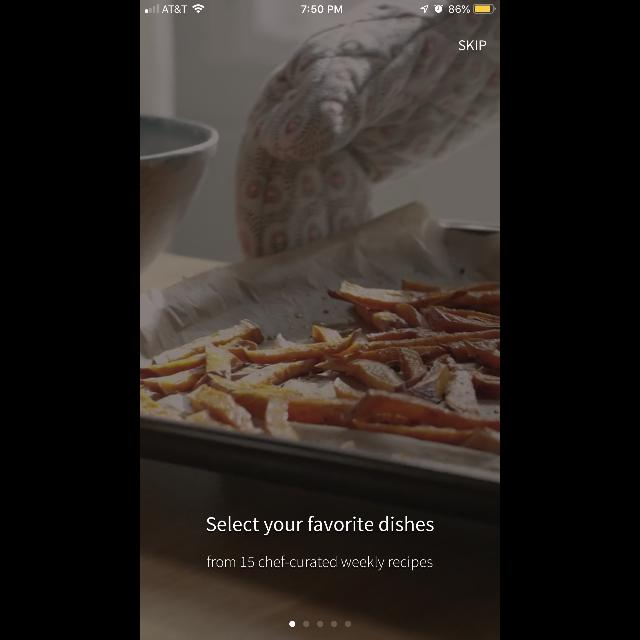backgroundimage: (140, 14, 500, 640)
pageindicator: (289, 621, 351, 627)
text: (206, 516, 434, 536), (208, 556, 432, 570), (458, 40, 486, 51)
uppertaskbar: (140, 0, 500, 14)
